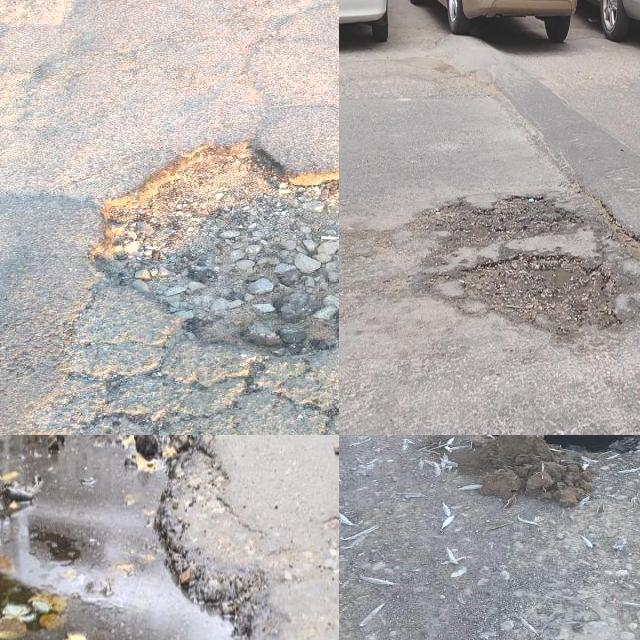Pothole: (0, 435, 260, 640), (90, 147, 339, 357), (460, 254, 616, 336), (426, 192, 569, 249)
